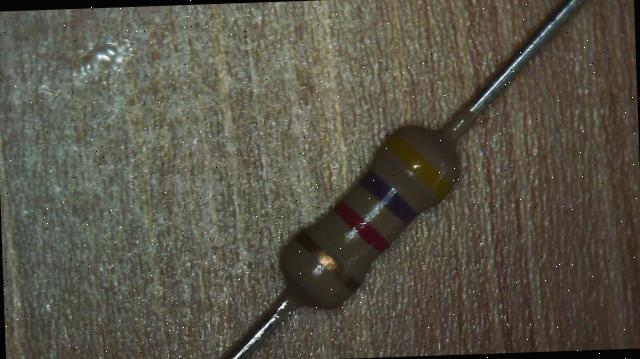gold: (296, 230, 358, 292)
red: (332, 199, 388, 253)
resistor: (246, 75, 496, 342)
violet: (358, 168, 417, 226)
yellow: (385, 134, 450, 198)
